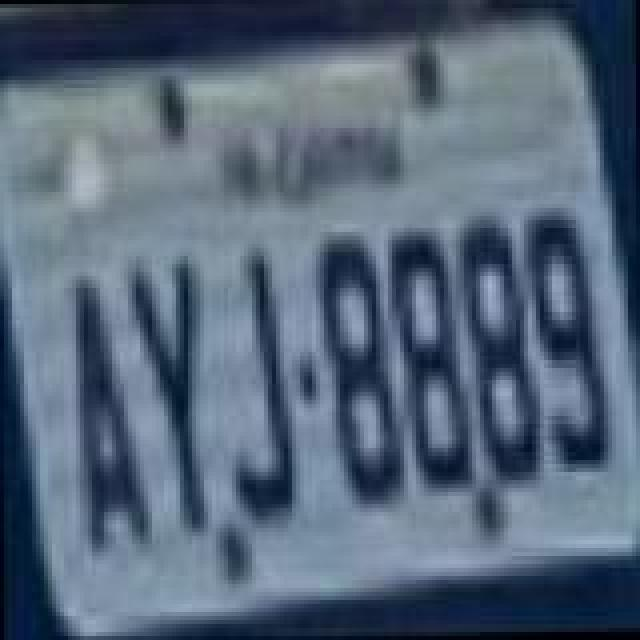8: (314, 238, 406, 510), (388, 232, 476, 496), (456, 222, 544, 486)
9: (522, 208, 614, 472)
A: (74, 278, 154, 562)
J: (232, 246, 300, 518)
Y: (130, 262, 210, 534)
